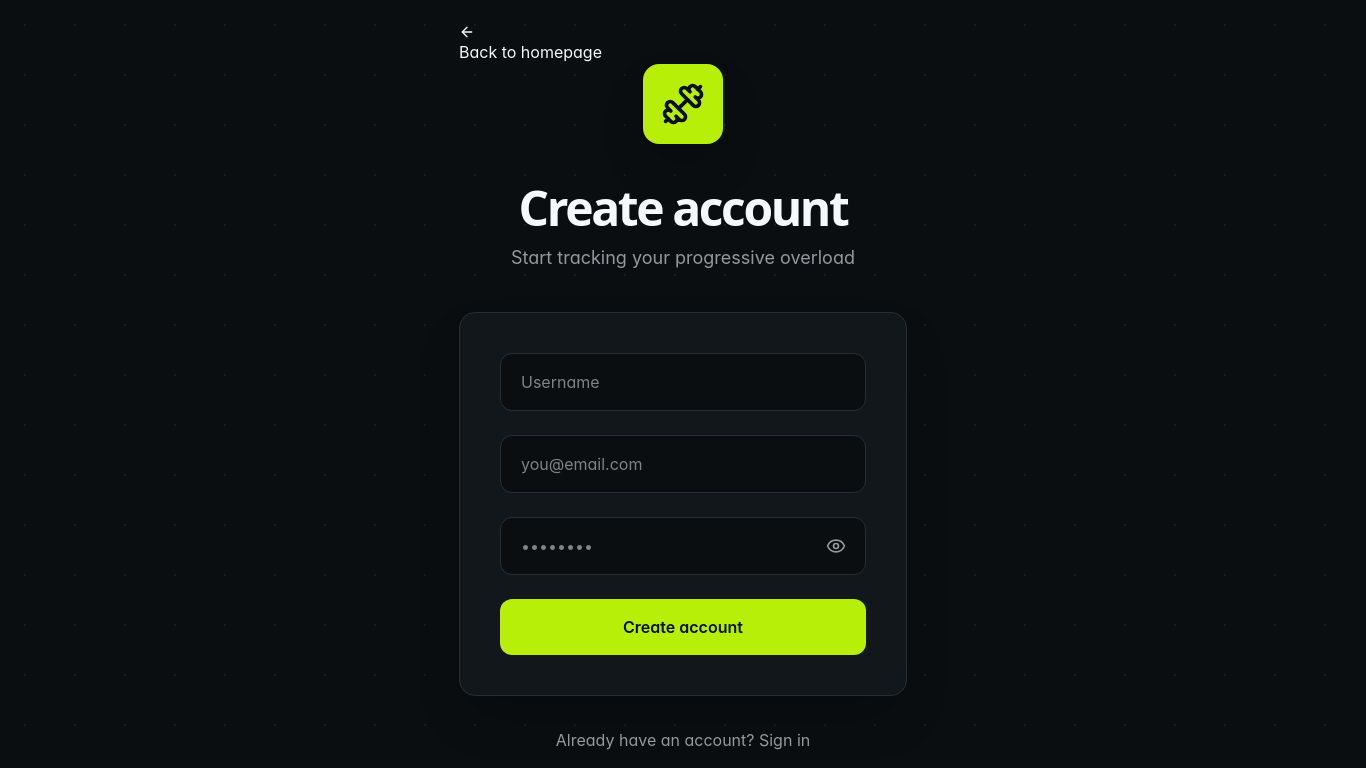
it: Register Page › validates password length
In the field with placeholder "Username": x=683, y=382 [500,353,866,411], type "john"
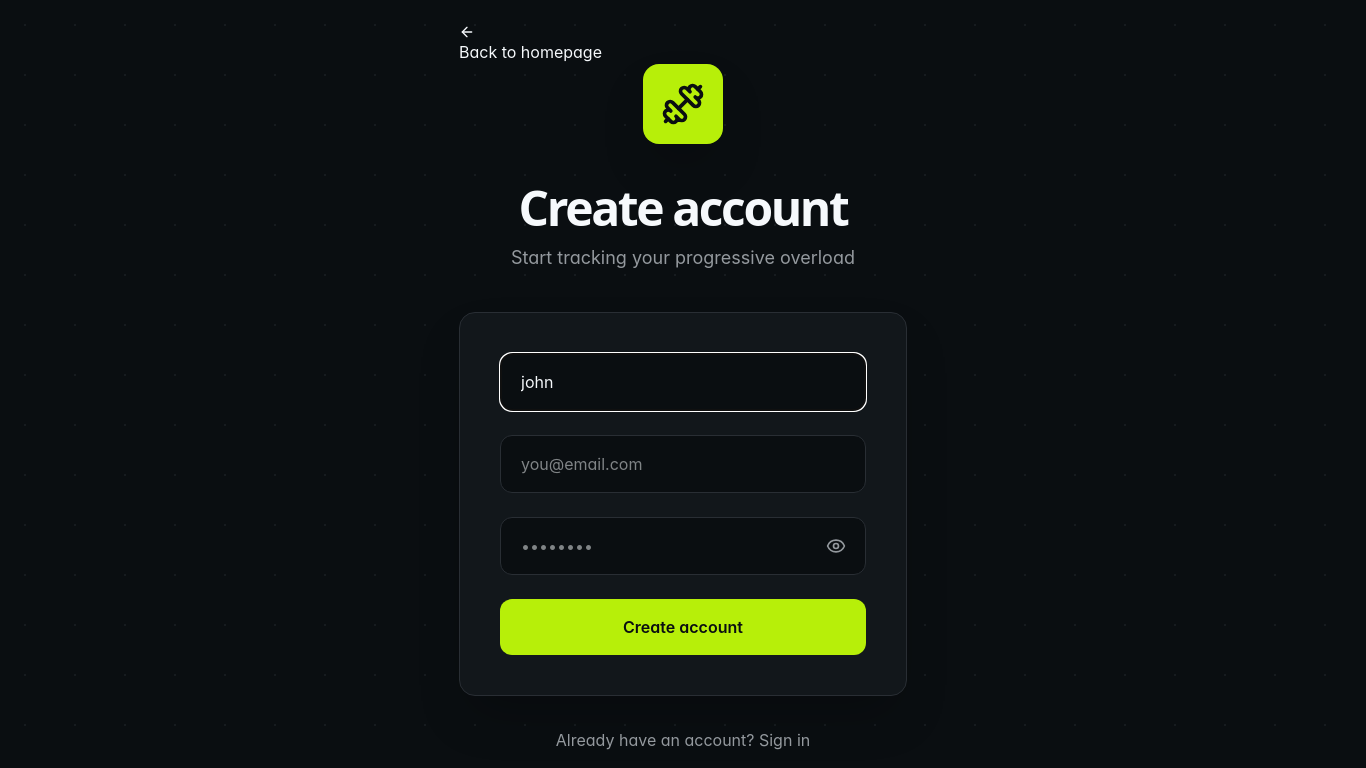
In the field with placeholder "you@email.com": x=683, y=464 [500,435,866,493], type "john@mail.com"
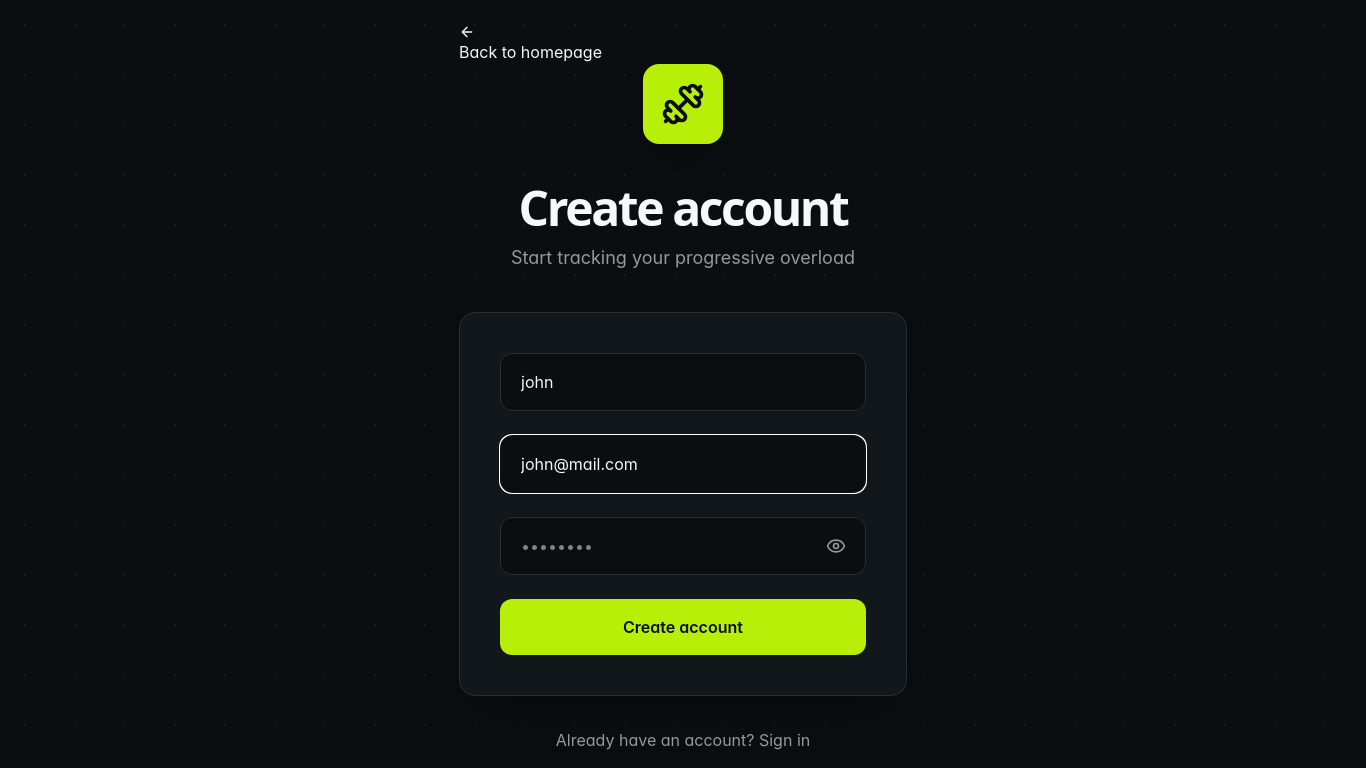
In the password field with placeholder "••••••••": x=683, y=546 [500,517,866,575], type "123"
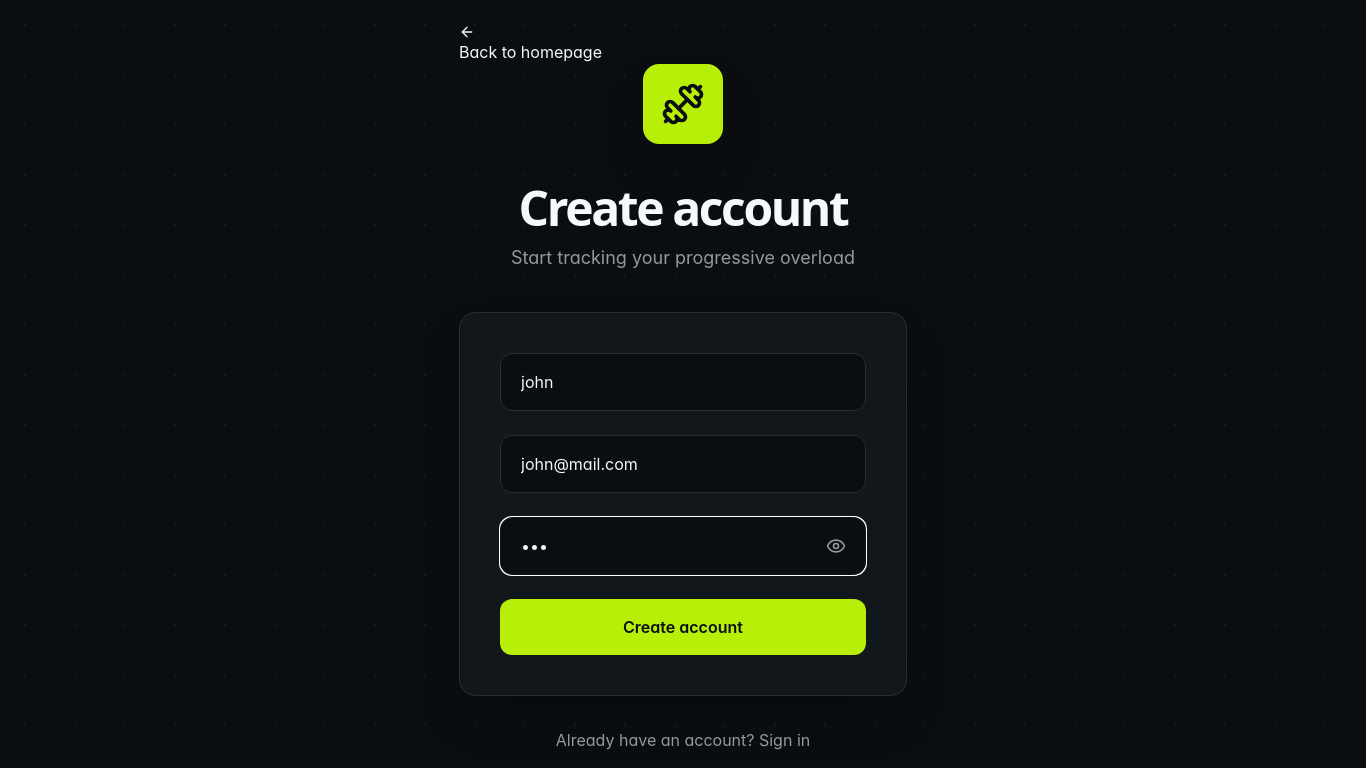
Click the button "Create account": x=683, y=627 [500,599,866,655]
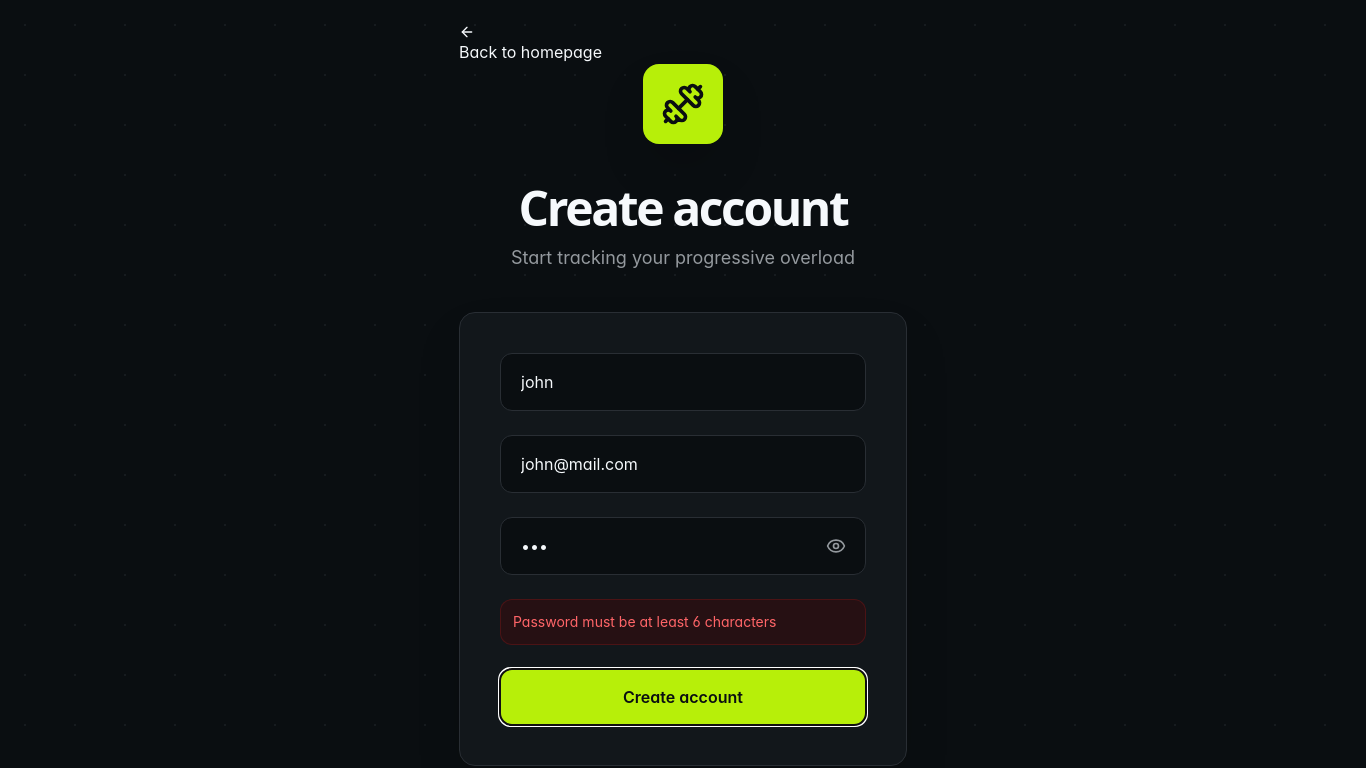
Expected: the text "Password must be at least 6 characters" is shown, [500,599,866,645]
